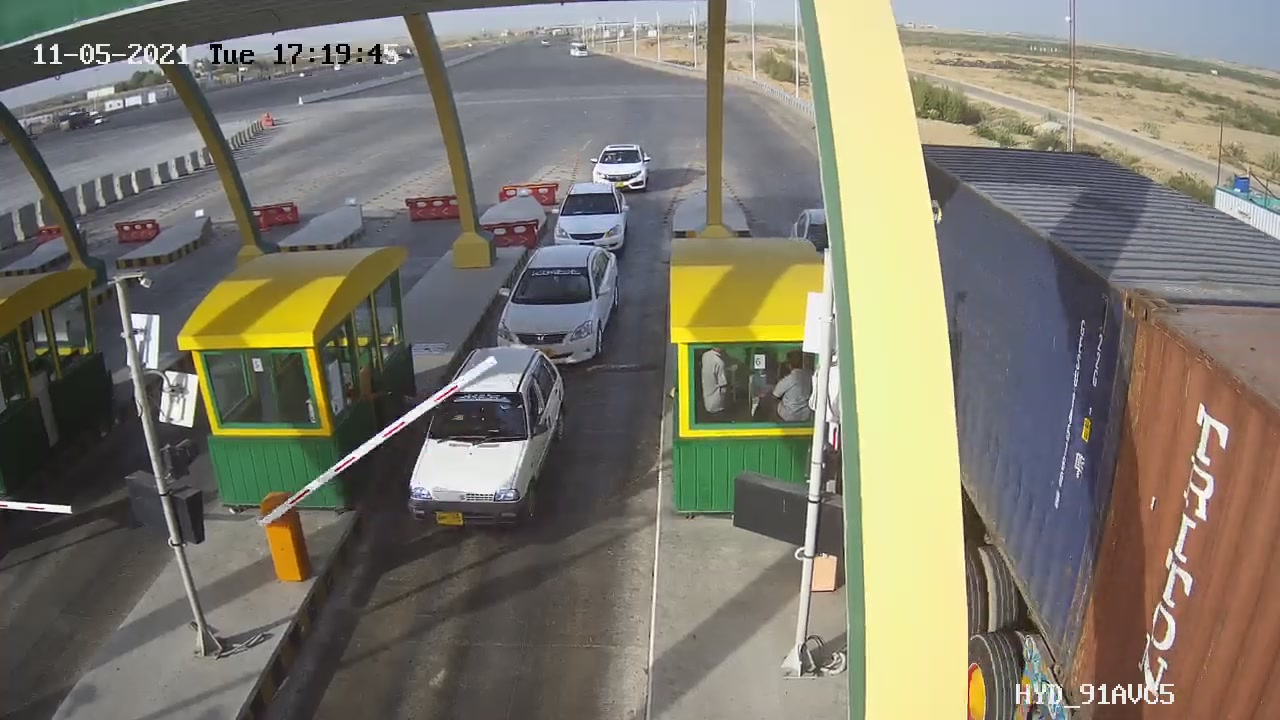F1: (394, 338, 585, 542), (482, 234, 634, 382)
